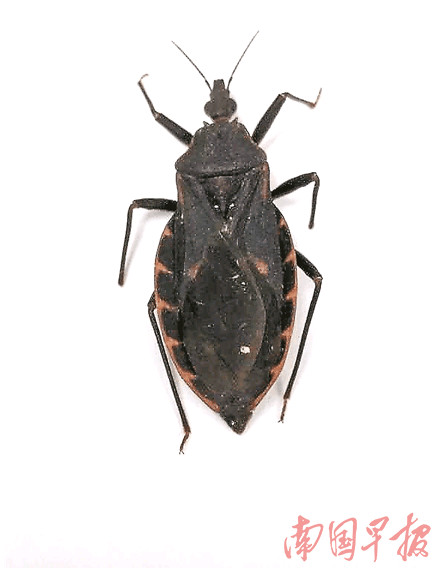chunchong: (116, 84, 324, 446)
